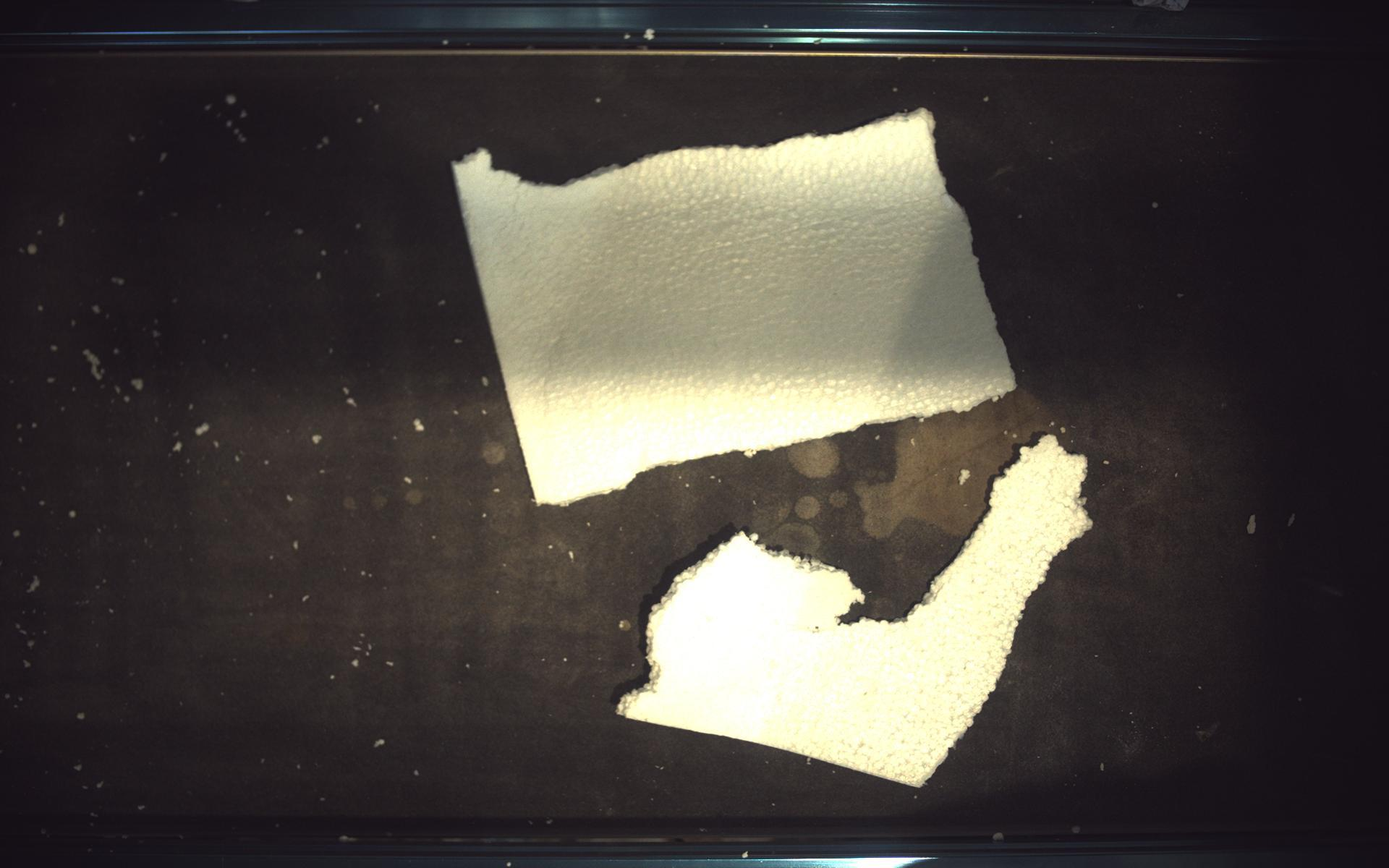foam: (453, 109, 1016, 504), (619, 435, 1093, 788)
